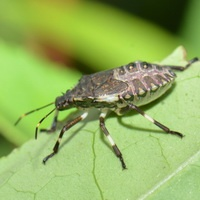insect: (56, 78, 179, 134)
